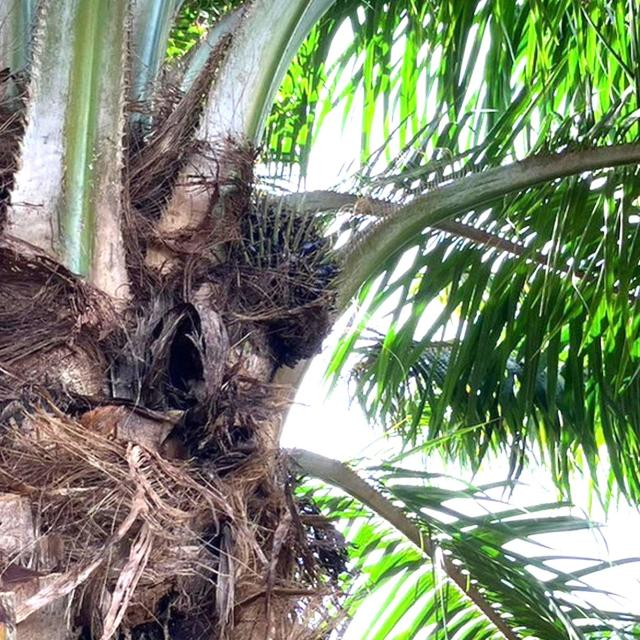unripe: (240, 203, 344, 360)
